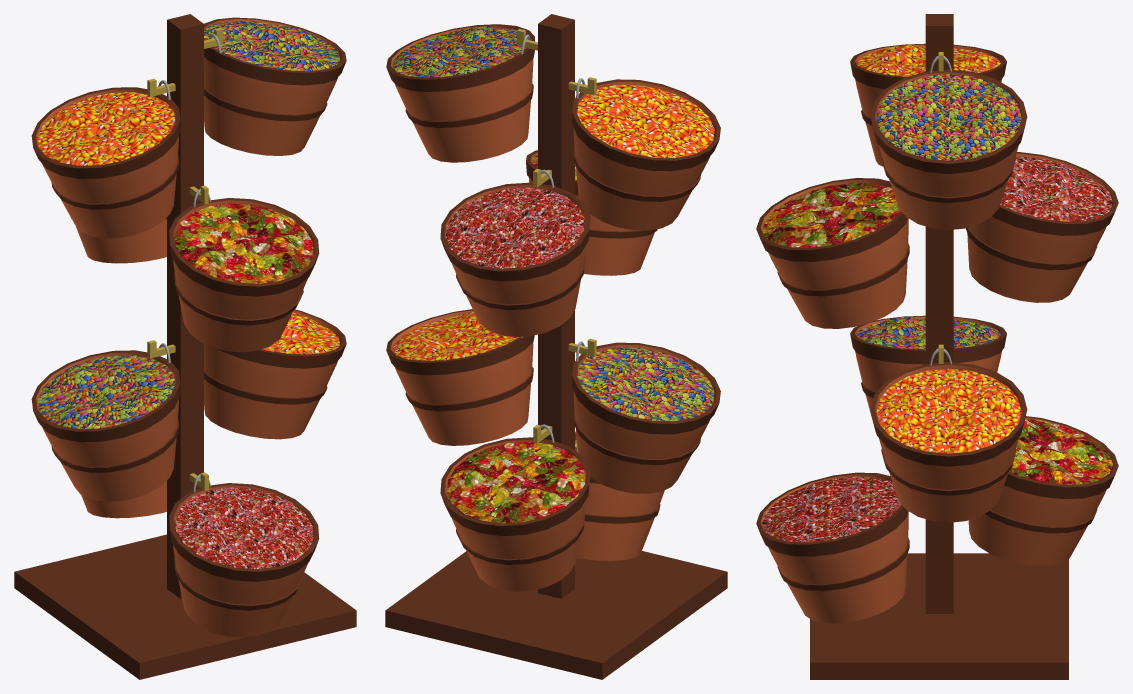
Rendered from barrel_display.fbx.
3 views of the same model, side by side, from view 1: azimuth 30°, elevation 25°; view 2: azimuth 150°, elevation 25°; view 3: azimuth 270°, elevation 25° (orthographic). The views are drawn at different scales.
Visible parts, largest first — view 1: barrel_holder, display_barrel4, display_barrel5, display_barrel9, display_barrel8, display_barrel3, display_barrel2, candy6, candy7, candy5, candy4, candy3 (+3 smaller); view 2: barrel_holder, display_barrel4, display_barrel5, display_barrel9, display_barrel8, display_barrel6, display_barrel7, candy, candy1, candy5, candy4, display_barrel2 (+3 smaller); view 3: barrel_holder, display_barrel3, display_barrel2, display_barrel6, display_barrel5, candy3, display_barrel4, candy2, display_barrel7, candy6, candy7, candy1 (+5 smaller).
Boxes of the visible parts, x1=… form: barrel_holder: x1=14, y1=14, x2=356, y2=679; display_barrel4: x1=204, y1=17, x2=346, y2=155; display_barrel5: x1=204, y1=309, x2=346, y2=439; display_barrel9: x1=31, y1=87, x2=180, y2=238; display_barrel8: x1=31, y1=350, x2=180, y2=501; display_barrel3: x1=169, y1=198, x2=319, y2=352; display_barrel2: x1=169, y1=483, x2=319, y2=637; candy6: x1=174, y1=487, x2=313, y2=568; candy7: x1=174, y1=203, x2=313, y2=283; candy5: x1=37, y1=355, x2=175, y2=428; candy4: x1=38, y1=92, x2=175, y2=165; candy3: x1=204, y1=21, x2=339, y2=71; barrel_holder: x1=385, y1=14, x2=727, y2=679; display_barrel4: x1=386, y1=24, x2=534, y2=162; display_barrel5: x1=386, y1=309, x2=534, y2=445; display_barrel9: x1=572, y1=79, x2=720, y2=230; display_barrel8: x1=572, y1=342, x2=720, y2=493; display_barrel6: x1=440, y1=182, x2=590, y2=336; display_barrel7: x1=440, y1=437, x2=590, y2=591; candy: x1=447, y1=441, x2=585, y2=523; candy1: x1=445, y1=187, x2=585, y2=268; candy5: x1=577, y1=347, x2=714, y2=421; candy4: x1=577, y1=84, x2=714, y2=157; display_barrel2: x1=532, y1=431, x2=664, y2=560; barrel_holder: x1=810, y1=14, x2=1068, y2=679; display_barrel3: x1=756, y1=178, x2=909, y2=328; display_barrel2: x1=756, y1=472, x2=909, y2=623; display_barrel6: x1=966, y1=152, x2=1118, y2=302; display_barrel5: x1=870, y1=362, x2=1027, y2=522; candy3: x1=876, y1=74, x2=1021, y2=160; display_barrel4: x1=870, y1=69, x2=1027, y2=229; candy2: x1=876, y1=368, x2=1021, y2=453; display_barrel7: x1=968, y1=416, x2=1118, y2=565; candy6: x1=762, y1=476, x2=901, y2=542; candy7: x1=762, y1=183, x2=900, y2=247; candy1: x1=1000, y1=156, x2=1112, y2=221.
Size of the model in its own units: 2.88 by 5.28 by 2.87.
9 materials, 4 textured.
